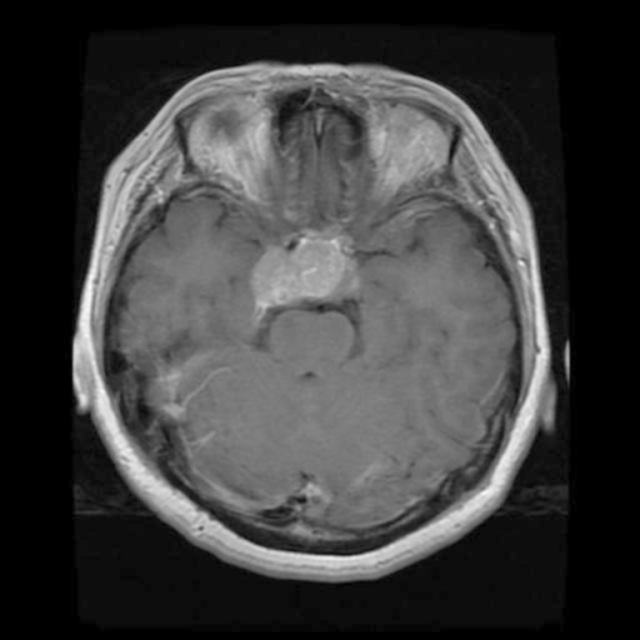no tumor: (244, 222, 371, 316)
